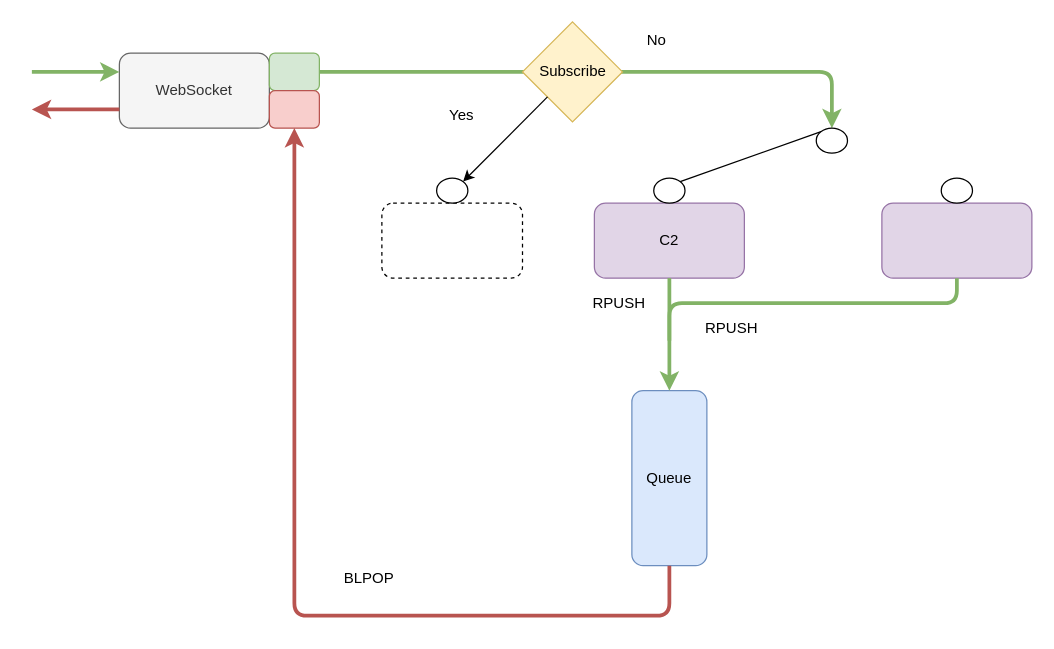
This 1054x649 diagram has some shape labels left out. Each missing label, with the centre of its shape:
"C1" goes at (x=956, y=240).
"C3" goes at (x=451, y=240).
